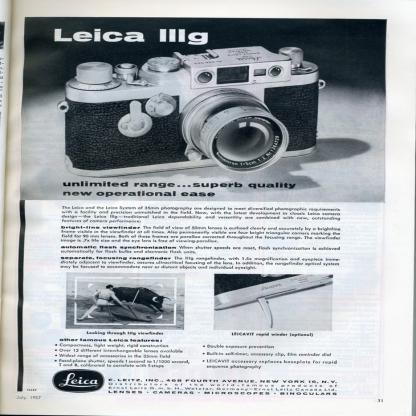Camera: (61, 45, 327, 181)
